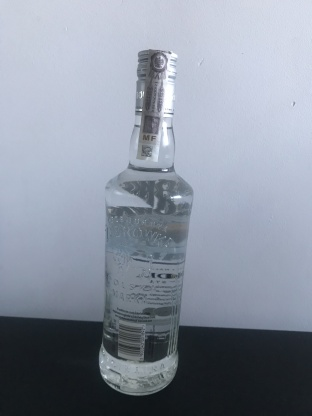nakretka: (132, 42, 179, 121)
